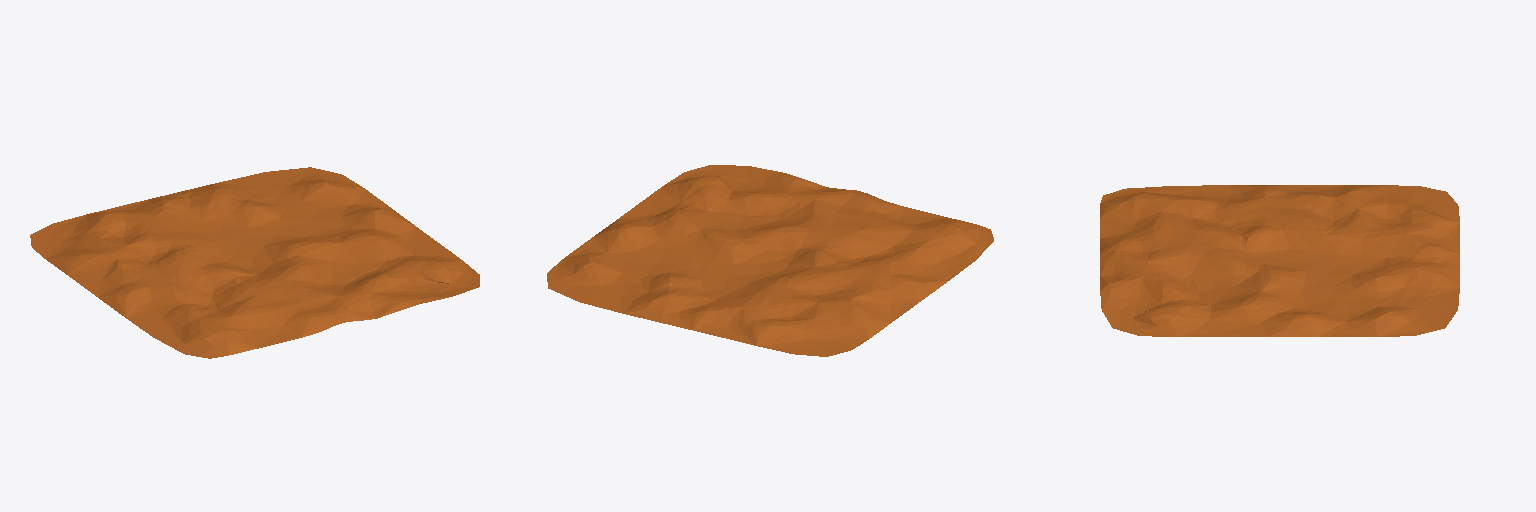
The model's file is Ground04.obj.
3 views of the same model, side by side, from view 1: azimuth 30°, elevation 25°; view 2: azimuth 150°, elevation 25°; view 3: azimuth 270°, elevation 25° (orthographic).
Parts seen in each view (by area): view 1: Plane_Plane.001; view 2: Plane_Plane.001; view 3: Plane_Plane.001.
Boxes of the visible parts, x1,y1,x2,y2 form: Plane_Plane.001: [30, 167, 479, 358]; Plane_Plane.001: [547, 165, 993, 356]; Plane_Plane.001: [1100, 185, 1459, 336].
Size of the model in its own units: 50.02 by 1.65 by 50.04.